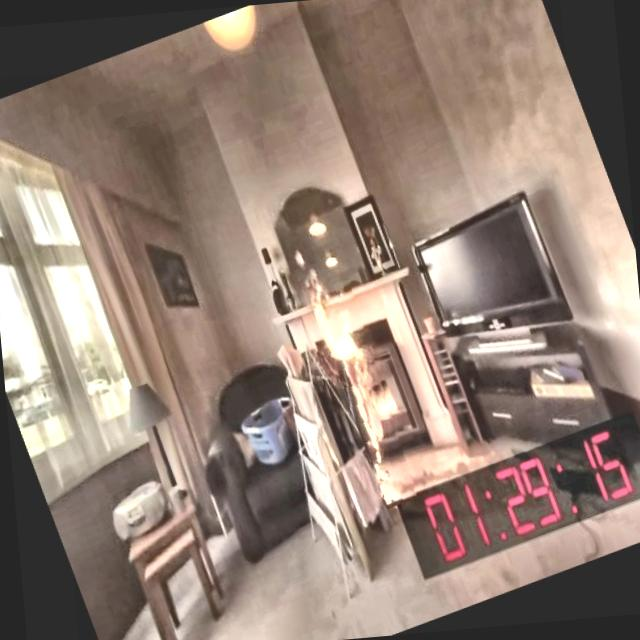fire: (264, 234, 438, 463)
